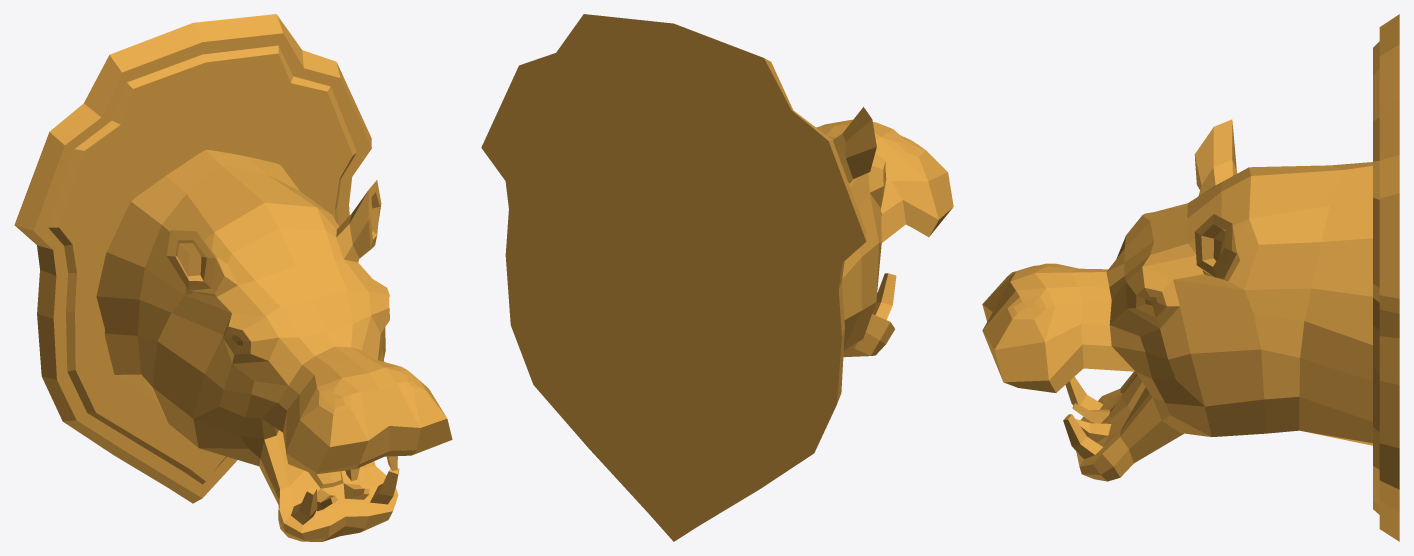
File: SM_Trophy_Hippopotamus.fbx
3 views of the same model, side by side, from view 1: azimuth 30°, elevation 25°; view 2: azimuth 150°, elevation 25°; view 3: azimuth 270°, elevation 25° (orthographic). The views are drawn at different scales.
Visible parts, largest first — view 1: trophy-hippopotamus; view 2: trophy-hippopotamus; view 3: trophy-hippopotamus.
Part boxes in pixels (x1=…): trophy-hippopotamus: x1=14, y1=14, x2=452, y2=541; trophy-hippopotamus: x1=481, y1=14, x2=953, y2=541; trophy-hippopotamus: x1=982, y1=14, x2=1399, y2=541.
Bounding box in the file's own units: 1.54 × 1.98 × 1.51.
